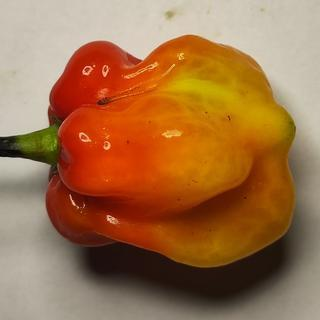Defect: (94, 88, 114, 113)
Fly-bites: (220, 109, 239, 128)
